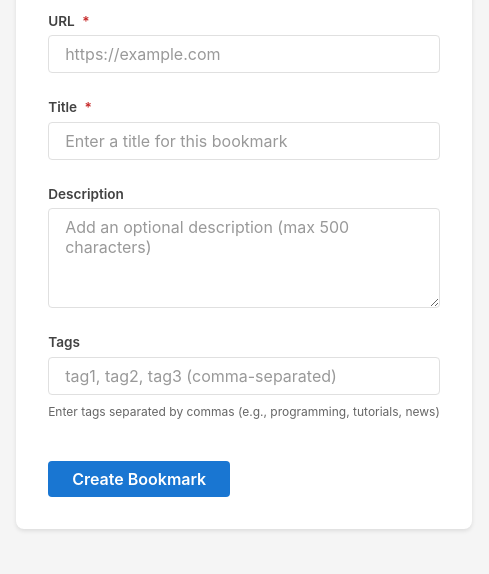
BookmarkForm › validates URL is required
In the field labelled "Title *": {"x": 244, "y": 141} [48, 122, 440, 160], type "Test Title"
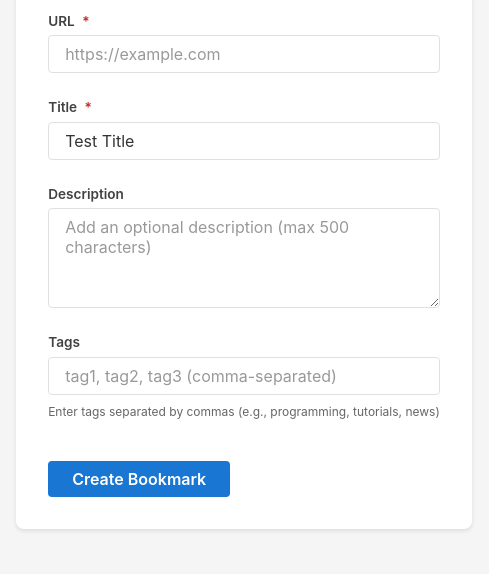
Click the button "Create Bookmark": {"x": 139, "y": 479} [48, 461, 230, 497]
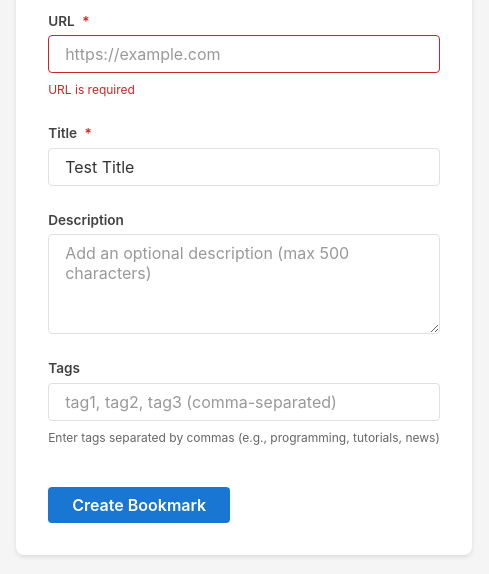
Check: the text "URL is required" is shown, box [48, 82, 135, 97]
